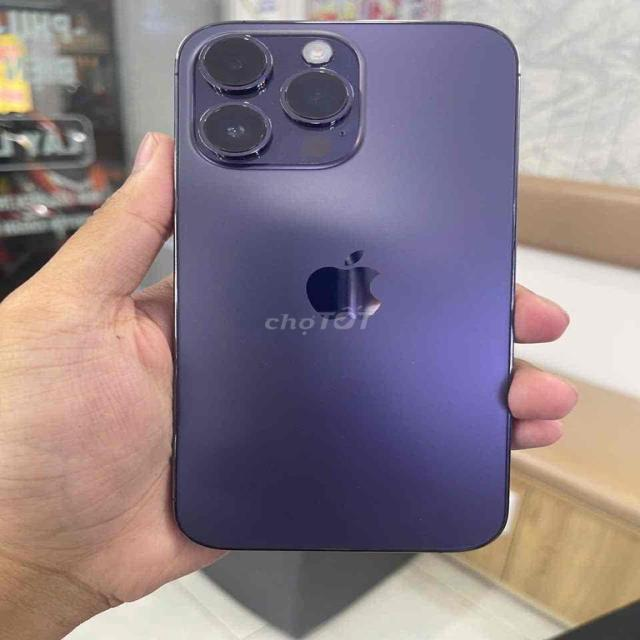gen_14: (161, 9, 525, 558)
